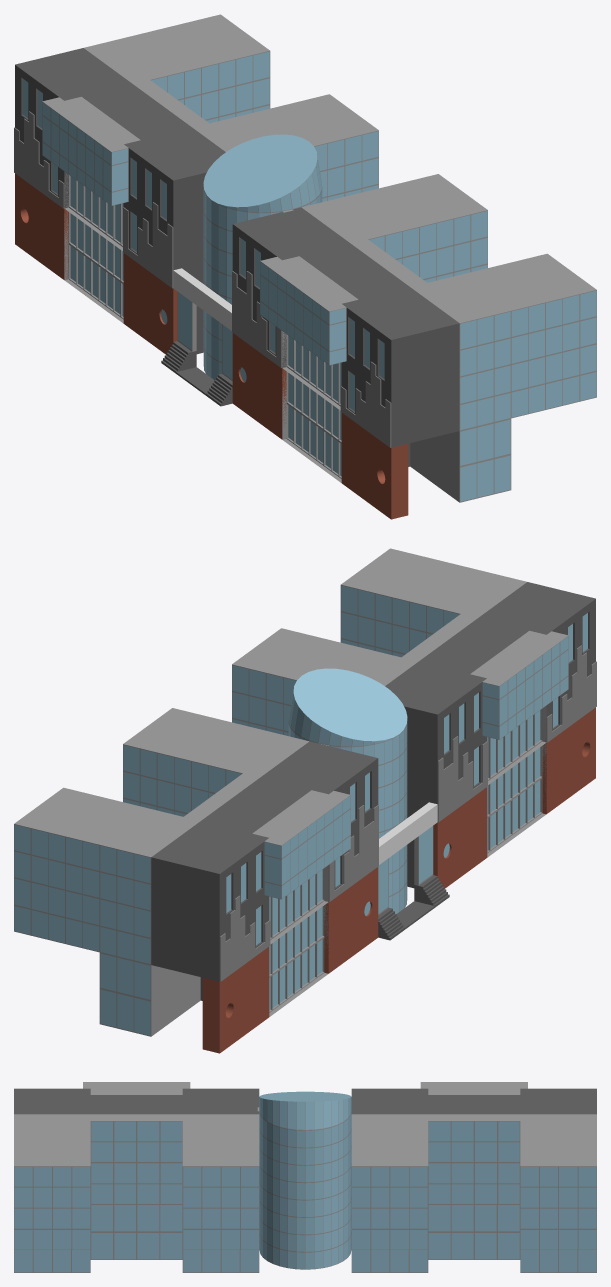
File: bokziTexture.fbx
The picture shows the model from 3 angles, top to bottom: view 1: azimuth 30°, elevation 25°; view 2: azimuth 150°, elevation 25°; view 3: azimuth 270°, elevation 25°; orthographic projection. The views are drawn at different scales.
Parts seen in each view (by area): view 1: cube.001, cube.003, cube.004, Cylinder, cube.005, Cube.019, Cube.007, cube.002, Cube.001, Cube.014, Cube.015, Cube.008 (+17 smaller); view 2: cube.003, cube.001, cube.005, Cylinder, cube.004, Cube.018, Cube.008, cube.006, Cube, Cube.015, Cube.014, Cube.007 (+17 smaller); view 3: Cylinder, cube.005, cube.004, cube.003, cube.001, cube.009, cube.011, cube.010, cube.012, Cube.007, Cube.008, cube.008 (+13 smaller).
Part boxes in pixels (x1=…): cube.001: x1=410, y1=253, x2=596, y2=430; cube.003: x1=84, y1=14, x2=270, y2=123; cube.004: x1=302, y1=174, x2=487, y2=282; Cylinder: x1=203, y1=134, x2=322, y2=379; cube.005: x1=193, y1=94, x2=378, y2=201; Cube.019: x1=359, y1=287, x2=459, y2=443; Cube.007: x1=82, y1=84, x2=225, y2=354; cube.002: x1=410, y1=418, x2=511, y2=502; Cube.001: x1=341, y1=299, x2=408, y2=447; Cube.014: x1=42, y1=97, x2=128, y2=205; Cube.015: x1=260, y1=257, x2=346, y2=365; Cube.008: x1=250, y1=207, x2=410, y2=466; cube.003: x1=14, y1=787, x2=200, y2=964; cube.001: x1=340, y1=548, x2=526, y2=657; cube.005: x1=123, y1=708, x2=308, y2=816; Cylinder: x1=288, y1=668, x2=407, y2=913; cube.004: x1=232, y1=628, x2=417, y2=735; Cube.018: x1=151, y1=821, x2=251, y2=977; Cube.008: x1=385, y1=618, x2=528, y2=888; cube.006: x1=99, y1=952, x2=200, y2=1036; Cube: x1=202, y1=833, x2=269, y2=981; Cube.015: x1=482, y1=631, x2=568, y2=739; Cube.014: x1=264, y1=791, x2=350, y2=899; Cube.007: x1=200, y1=741, x2=360, y2=1000; Cylinder: x1=257, y1=1091, x2=351, y2=1269; cube.005: x1=351, y1=1114, x2=428, y2=1249; cube.004: x1=182, y1=1114, x2=259, y2=1249; cube.003: x1=520, y1=1114, x2=596, y2=1249; cube.001: x1=14, y1=1114, x2=90, y2=1249; cube.009: x1=90, y1=1114, x2=182, y2=1204; cube.011: x1=428, y1=1114, x2=520, y2=1204; cube.010: x1=90, y1=1204, x2=182, y2=1259; cube.012: x1=428, y1=1204, x2=520, y2=1259; Cube.007: x1=351, y1=1095, x2=520, y2=1114; Cube.008: x1=90, y1=1095, x2=259, y2=1114; cube.008: x1=351, y1=1249, x2=428, y2=1272.
Bounding box in the file's own units: 26000 × 23879 × 76000.
